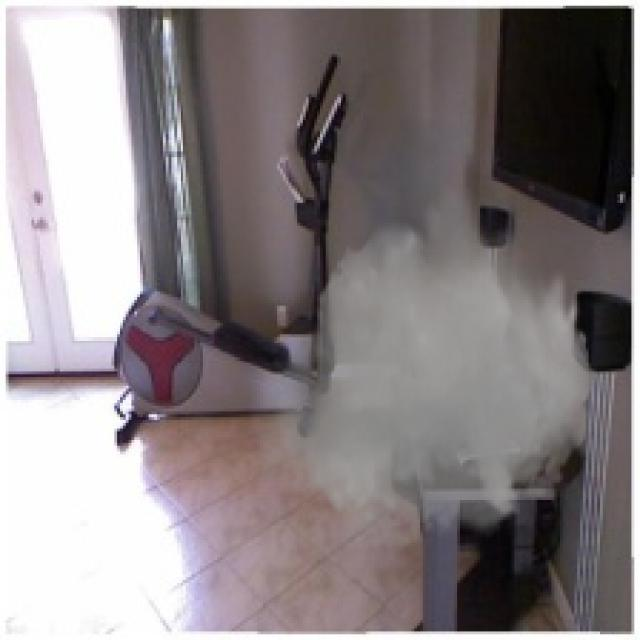Smoke: (248, 177, 600, 566)
